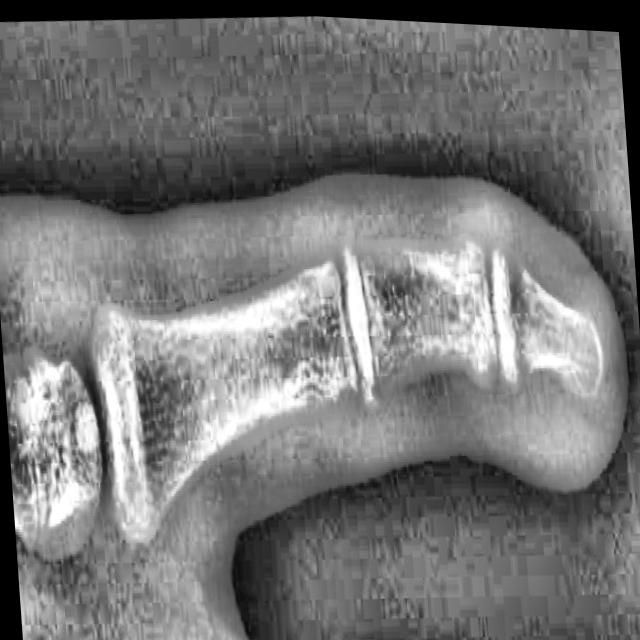fracture: (348, 350, 390, 416)
